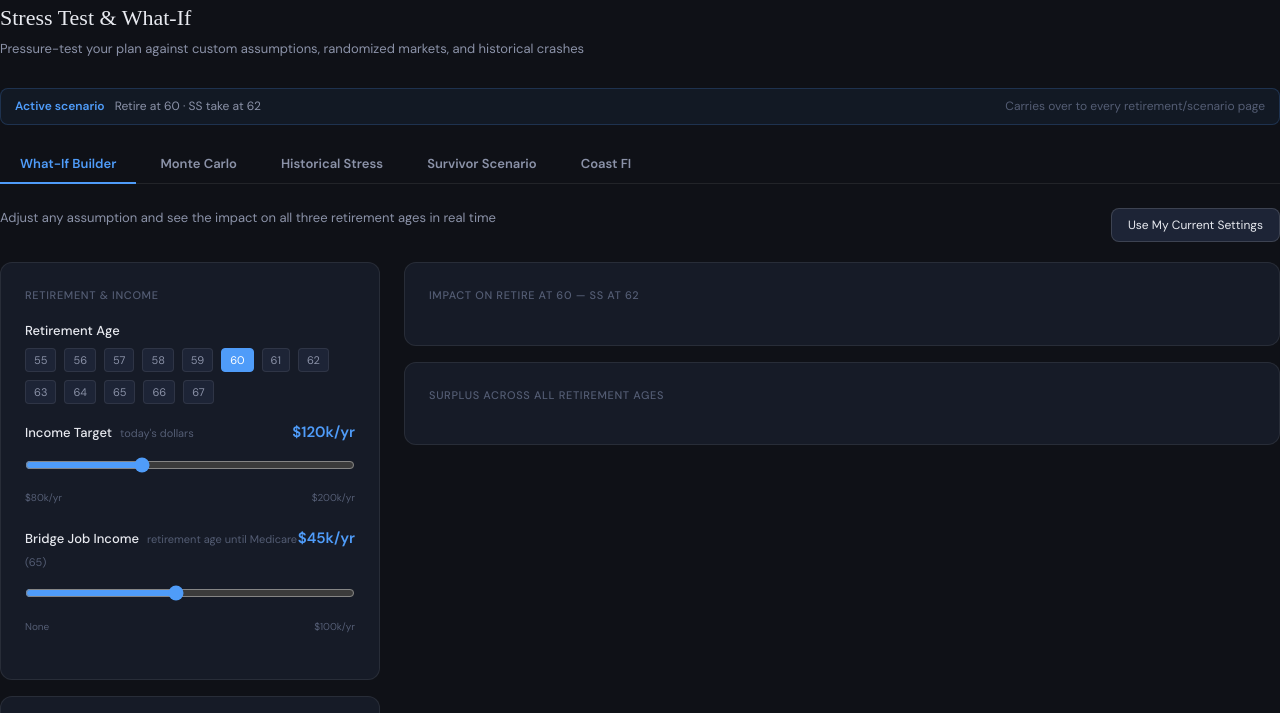
Test: Two-Age Monte Carlo › renders the age pair used, the working-spouse income, and the 65% factor
Click the button "Monte Carlo" at (199, 165), box x1=140 y1=145 x2=257 y2=184
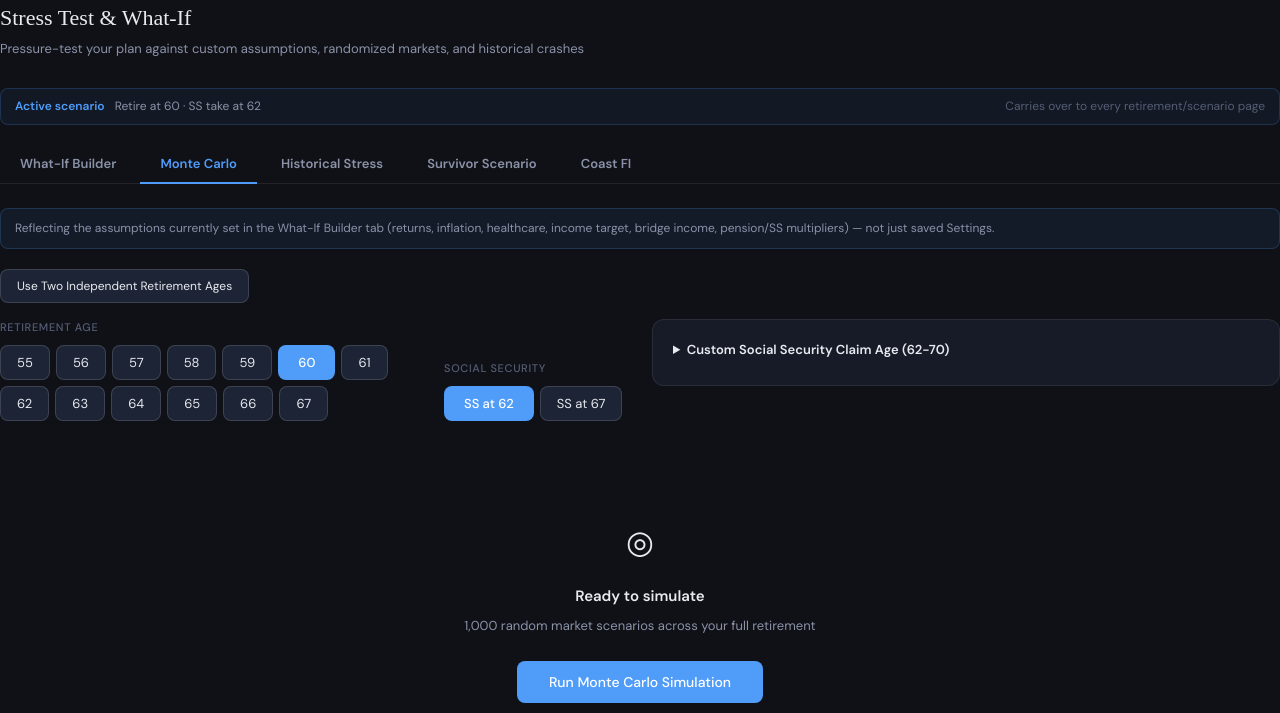
Check: the button "Use Two Independent Retirement Ages" is shown
Click the button "Use Two Independent Retirement Ages" at (125, 286), box x1=0 y1=269 x2=249 y2=303
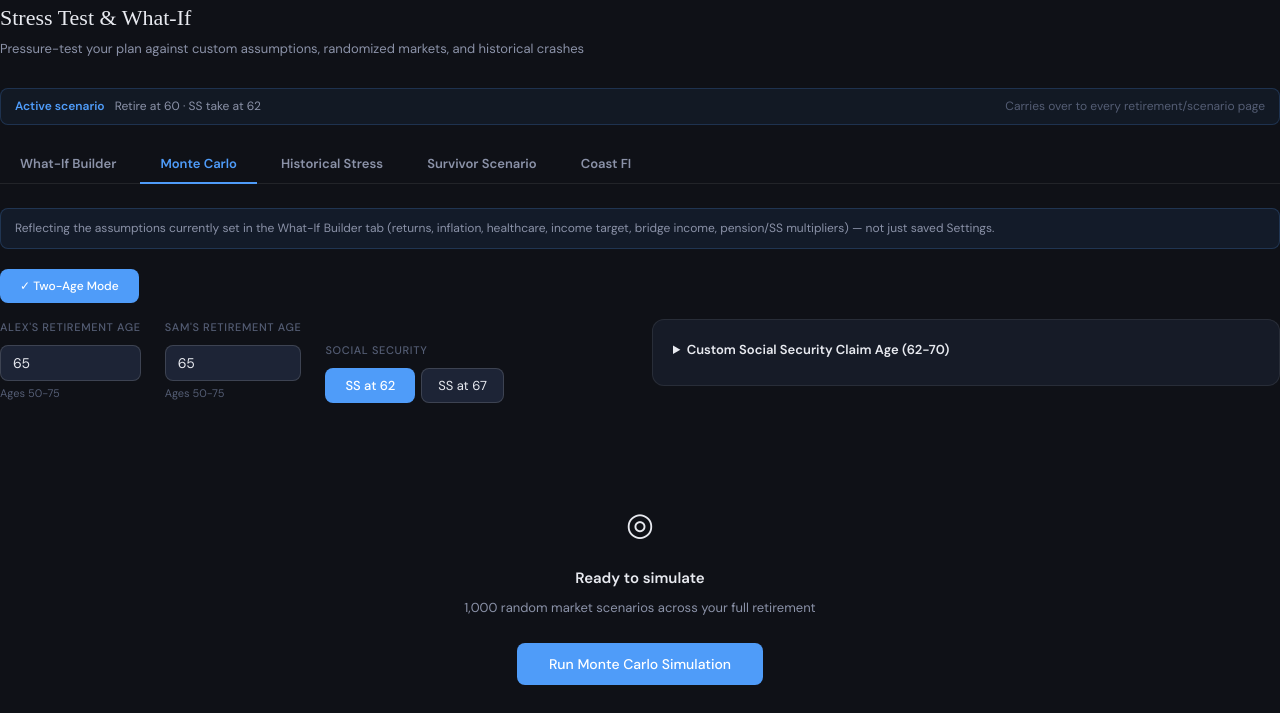
Check: the button "Run Monte Carlo Simulation" is shown
Click the button "Run Monte Carlo Simulation" at (640, 664), box x1=517 y1=642 x2=763 y2=684
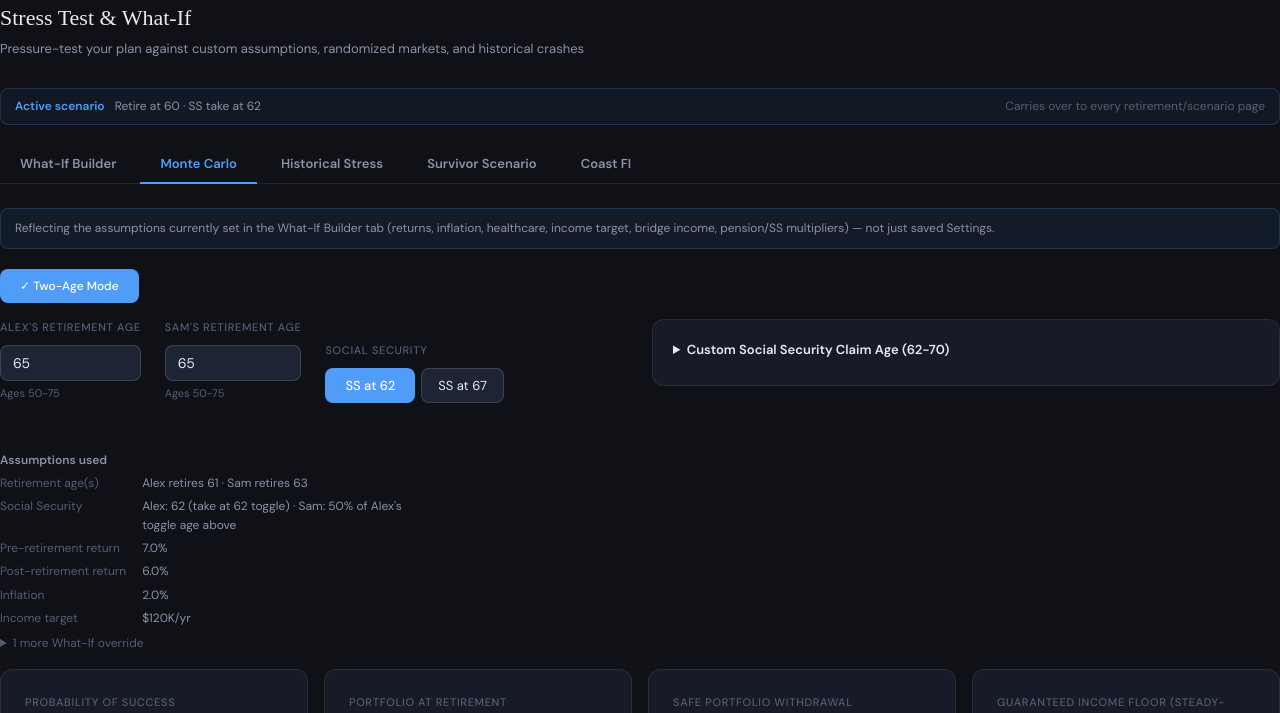
Check: the text "Alex retires 61" is shown, box x1=142 y1=475 x2=308 y2=491
Check: the text "Sam retires 63" is shown, box x1=142 y1=475 x2=308 y2=491
